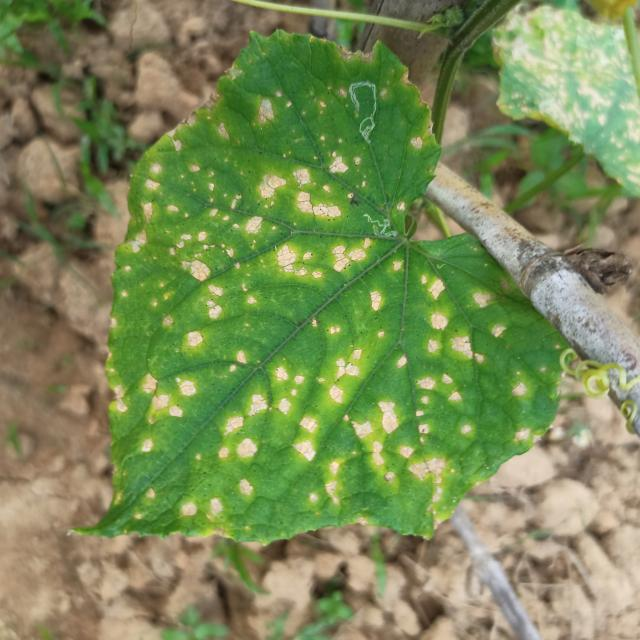disease_cucumber: (115, 85, 514, 542)
